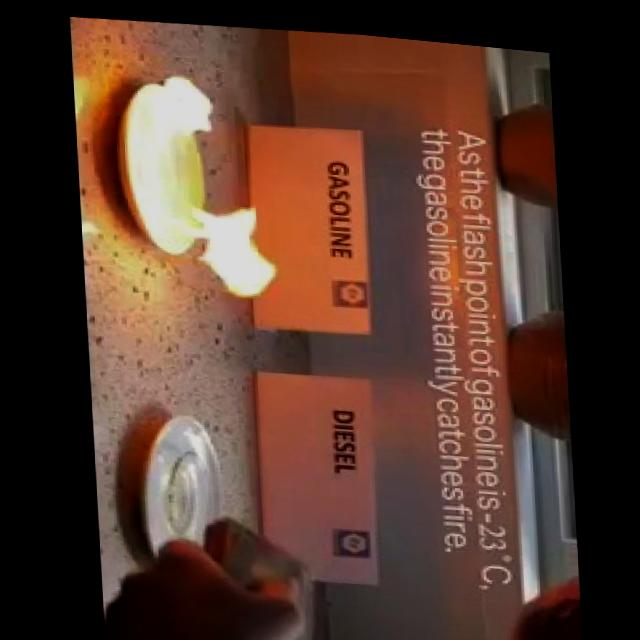Fire: (121, 57, 288, 301)
